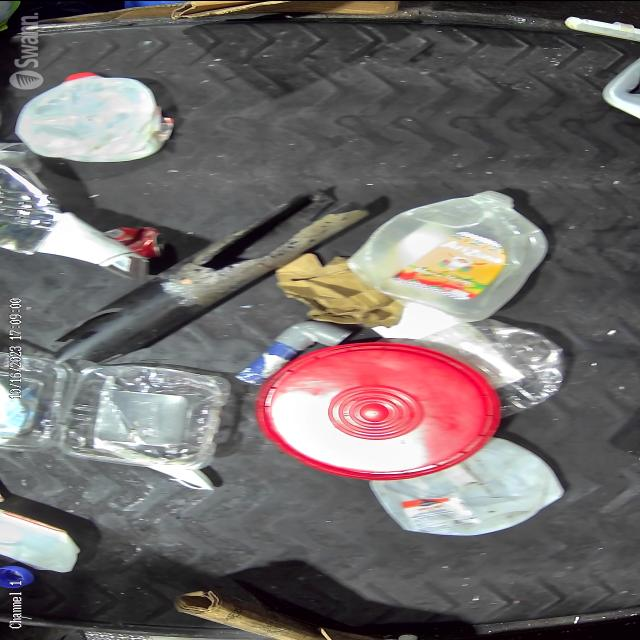milk_jug: (346, 191, 553, 301), (12, 69, 176, 165), (366, 468, 564, 536)
